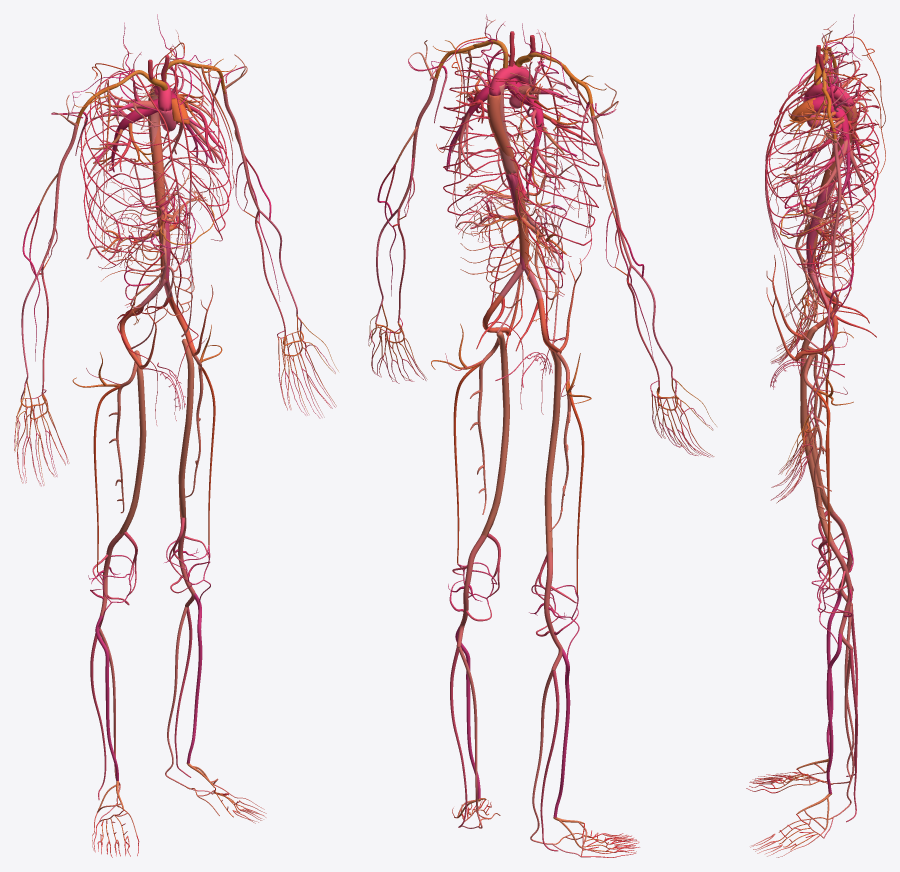
The model's file is body-arteries.lod0.glb.
3 renders of one model, left to right at view 1: azimuth 30°, elevation 25°; view 2: azimuth 150°, elevation 25°; view 3: azimuth 270°, elevation 25°, orthographic. The views are drawn at different scales.
Parts seen in each view (by area): view 1: posterior-intercostal-arteries, set-of-dorsal-digital-arteries, femoral-artery-l, femoral-artery-r, set-of-perforating-arteries, descending-aorta, anterior-tibial-artery-l, anterior-tibial-artery-r; view 2: posterior-intercostal-arteries, set-of-dorsal-digital-arteries, femoral-artery-l, femoral-artery-r, descending-aorta, set-of-perforating-arteries, anterior-tibial-artery-r, popliteal-artery-r, popliteal-artery-l, arch-of-aorta, anterior-tibial-artery-l; view 3: posterior-intercostal-arteries, set-of-dorsal-digital-arteries, femoral-artery-l, set-of-perforating-arteries, femoral-artery-r, anterior-tibial-artery-l, abdominal-aorta, popliteal-artery-l, anterior-tibial-artery-r, brachial-artery-l, descending-aorta, dorsal-digital-artery-of-foot (+18 smaller).
Part boxes in pixels (x1=…): posterior-intercostal-arteries: x1=80, y1=63, x2=231, y2=265; set-of-dorsal-digital-arteries: x1=14, y1=344, x2=335, y2=799; femoral-artery-l: x1=178, y1=338, x2=194, y2=519; femoral-artery-r: x1=119, y1=350, x2=146, y2=534; set-of-perforating-arteries: x1=109, y1=355, x2=203, y2=513; descending-aorta: x1=147, y1=93, x2=168, y2=283; anterior-tibial-artery-l: x1=187, y1=593, x2=202, y2=763; anterior-tibial-artery-r: x1=95, y1=615, x2=118, y2=780; posterior-intercostal-arteries: x1=439, y1=70, x2=601, y2=256; set-of-dorsal-digital-arteries: x1=368, y1=330, x2=713, y2=851; femoral-artery-l: x1=481, y1=331, x2=509, y2=537; femoral-artery-r: x1=544, y1=345, x2=561, y2=552; descending-aorta: x1=487, y1=94, x2=528, y2=265; set-of-perforating-arteries: x1=470, y1=338, x2=571, y2=531; anterior-tibial-artery-r: x1=553, y1=648, x2=570, y2=817; popliteal-artery-r: x1=544, y1=551, x2=562, y2=670; popliteal-artery-l: x1=456, y1=535, x2=486, y2=647; arch-of-aorta: x1=488, y1=64, x2=532, y2=95; anterior-tibial-artery-l: x1=455, y1=625, x2=480, y2=798; posterior-intercostal-arteries: x1=766, y1=60, x2=879, y2=268; set-of-dorsal-digital-arteries: x1=771, y1=298, x2=858, y2=822; femoral-artery-l: x1=800, y1=354, x2=833, y2=542; set-of-perforating-arteries: x1=803, y1=346, x2=831, y2=522; femoral-artery-r: x1=800, y1=326, x2=833, y2=513; anterior-tibial-artery-l: x1=826, y1=633, x2=841, y2=794; abdominal-aorta: x1=806, y1=182, x2=834, y2=276; popliteal-artery-l: x1=829, y1=541, x2=852, y2=649; anterior-tibial-artery-r: x1=826, y1=591, x2=841, y2=758; brachial-artery-l: x1=832, y1=139, x2=841, y2=289; descending-aorta: x1=808, y1=105, x2=857, y2=274; dorsal-digital-artery-of-foot: x1=750, y1=772, x2=825, y2=857.
Size of the model in its own units: 0.6489 by 1.5 by 0.2385.
